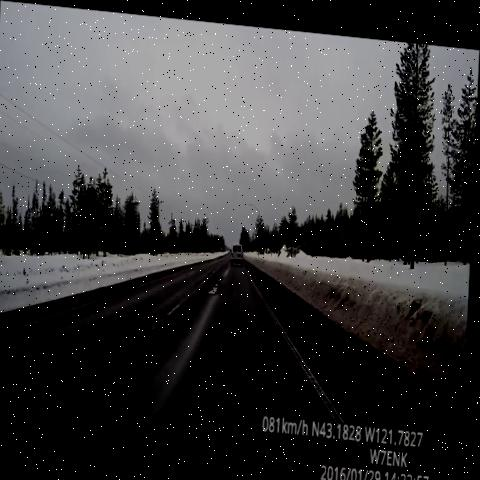pothole: (207, 263, 228, 297)
